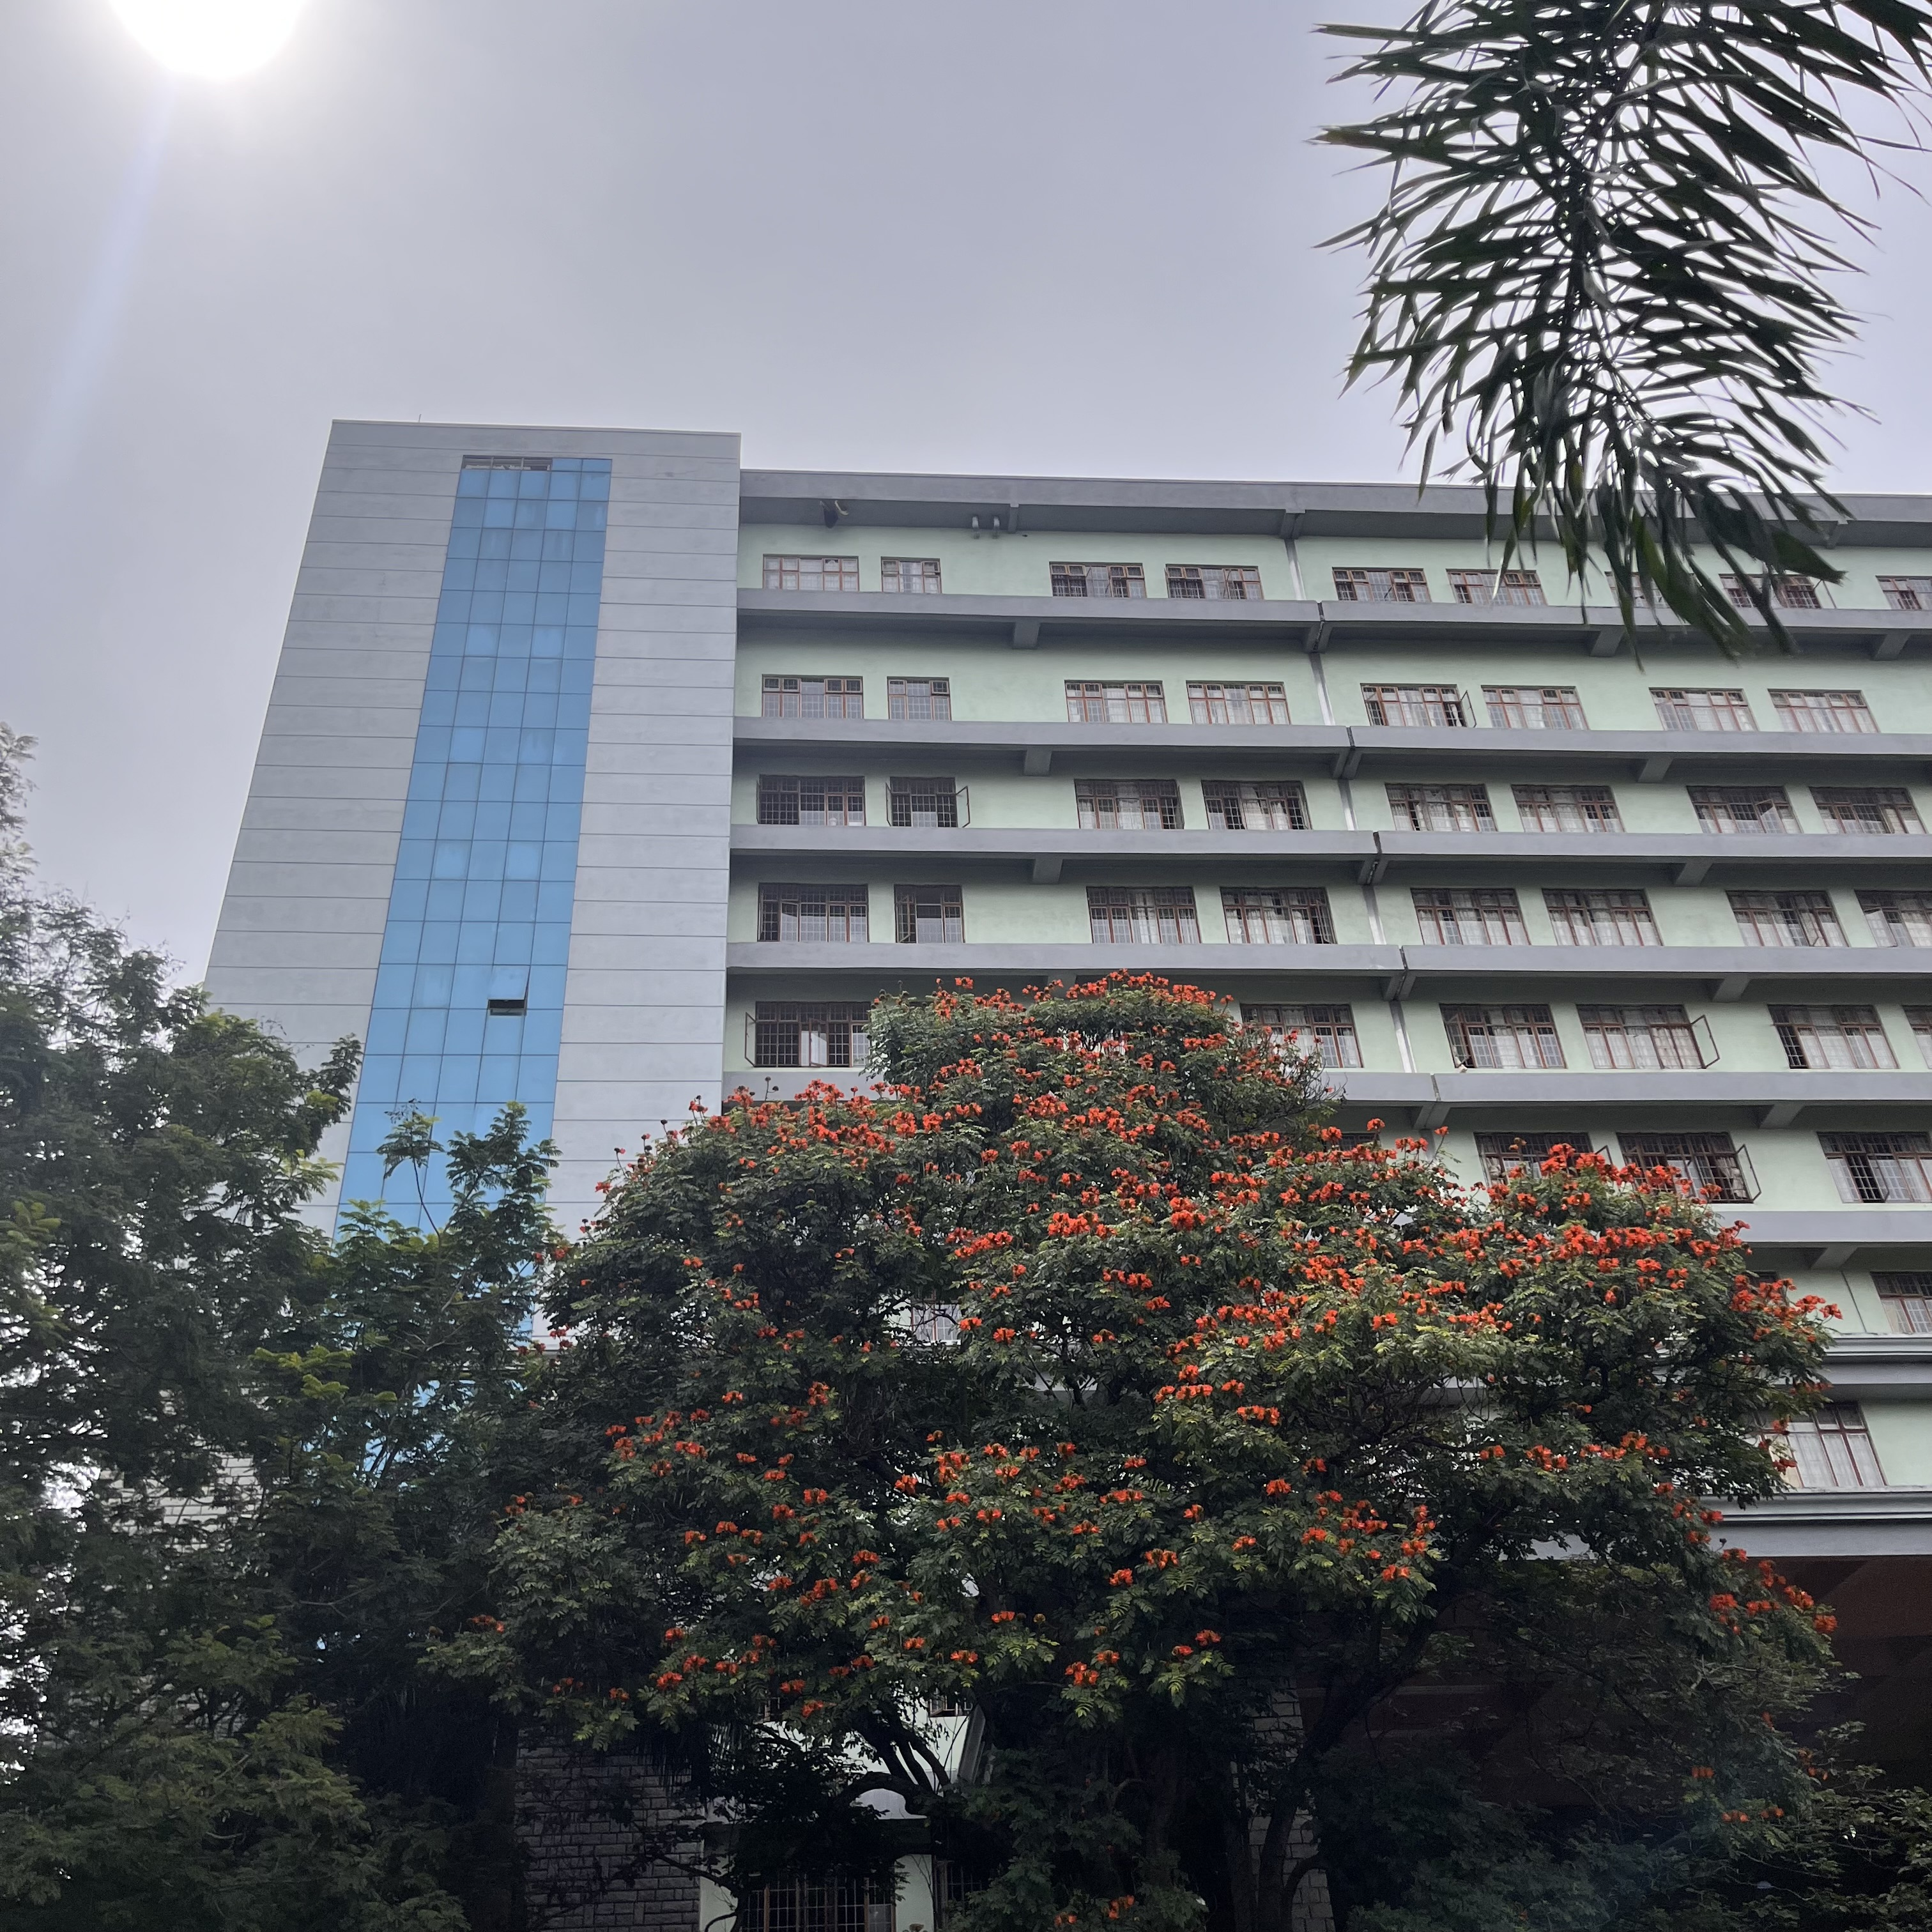Central Block: (228, 341, 1932, 1615)
